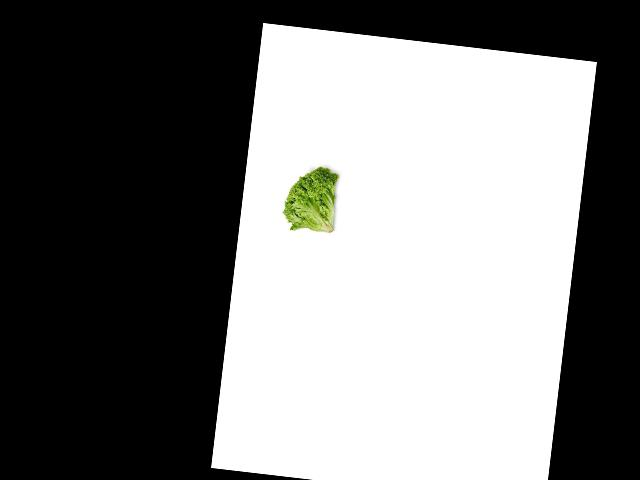lettuce: (277, 159, 347, 238)
